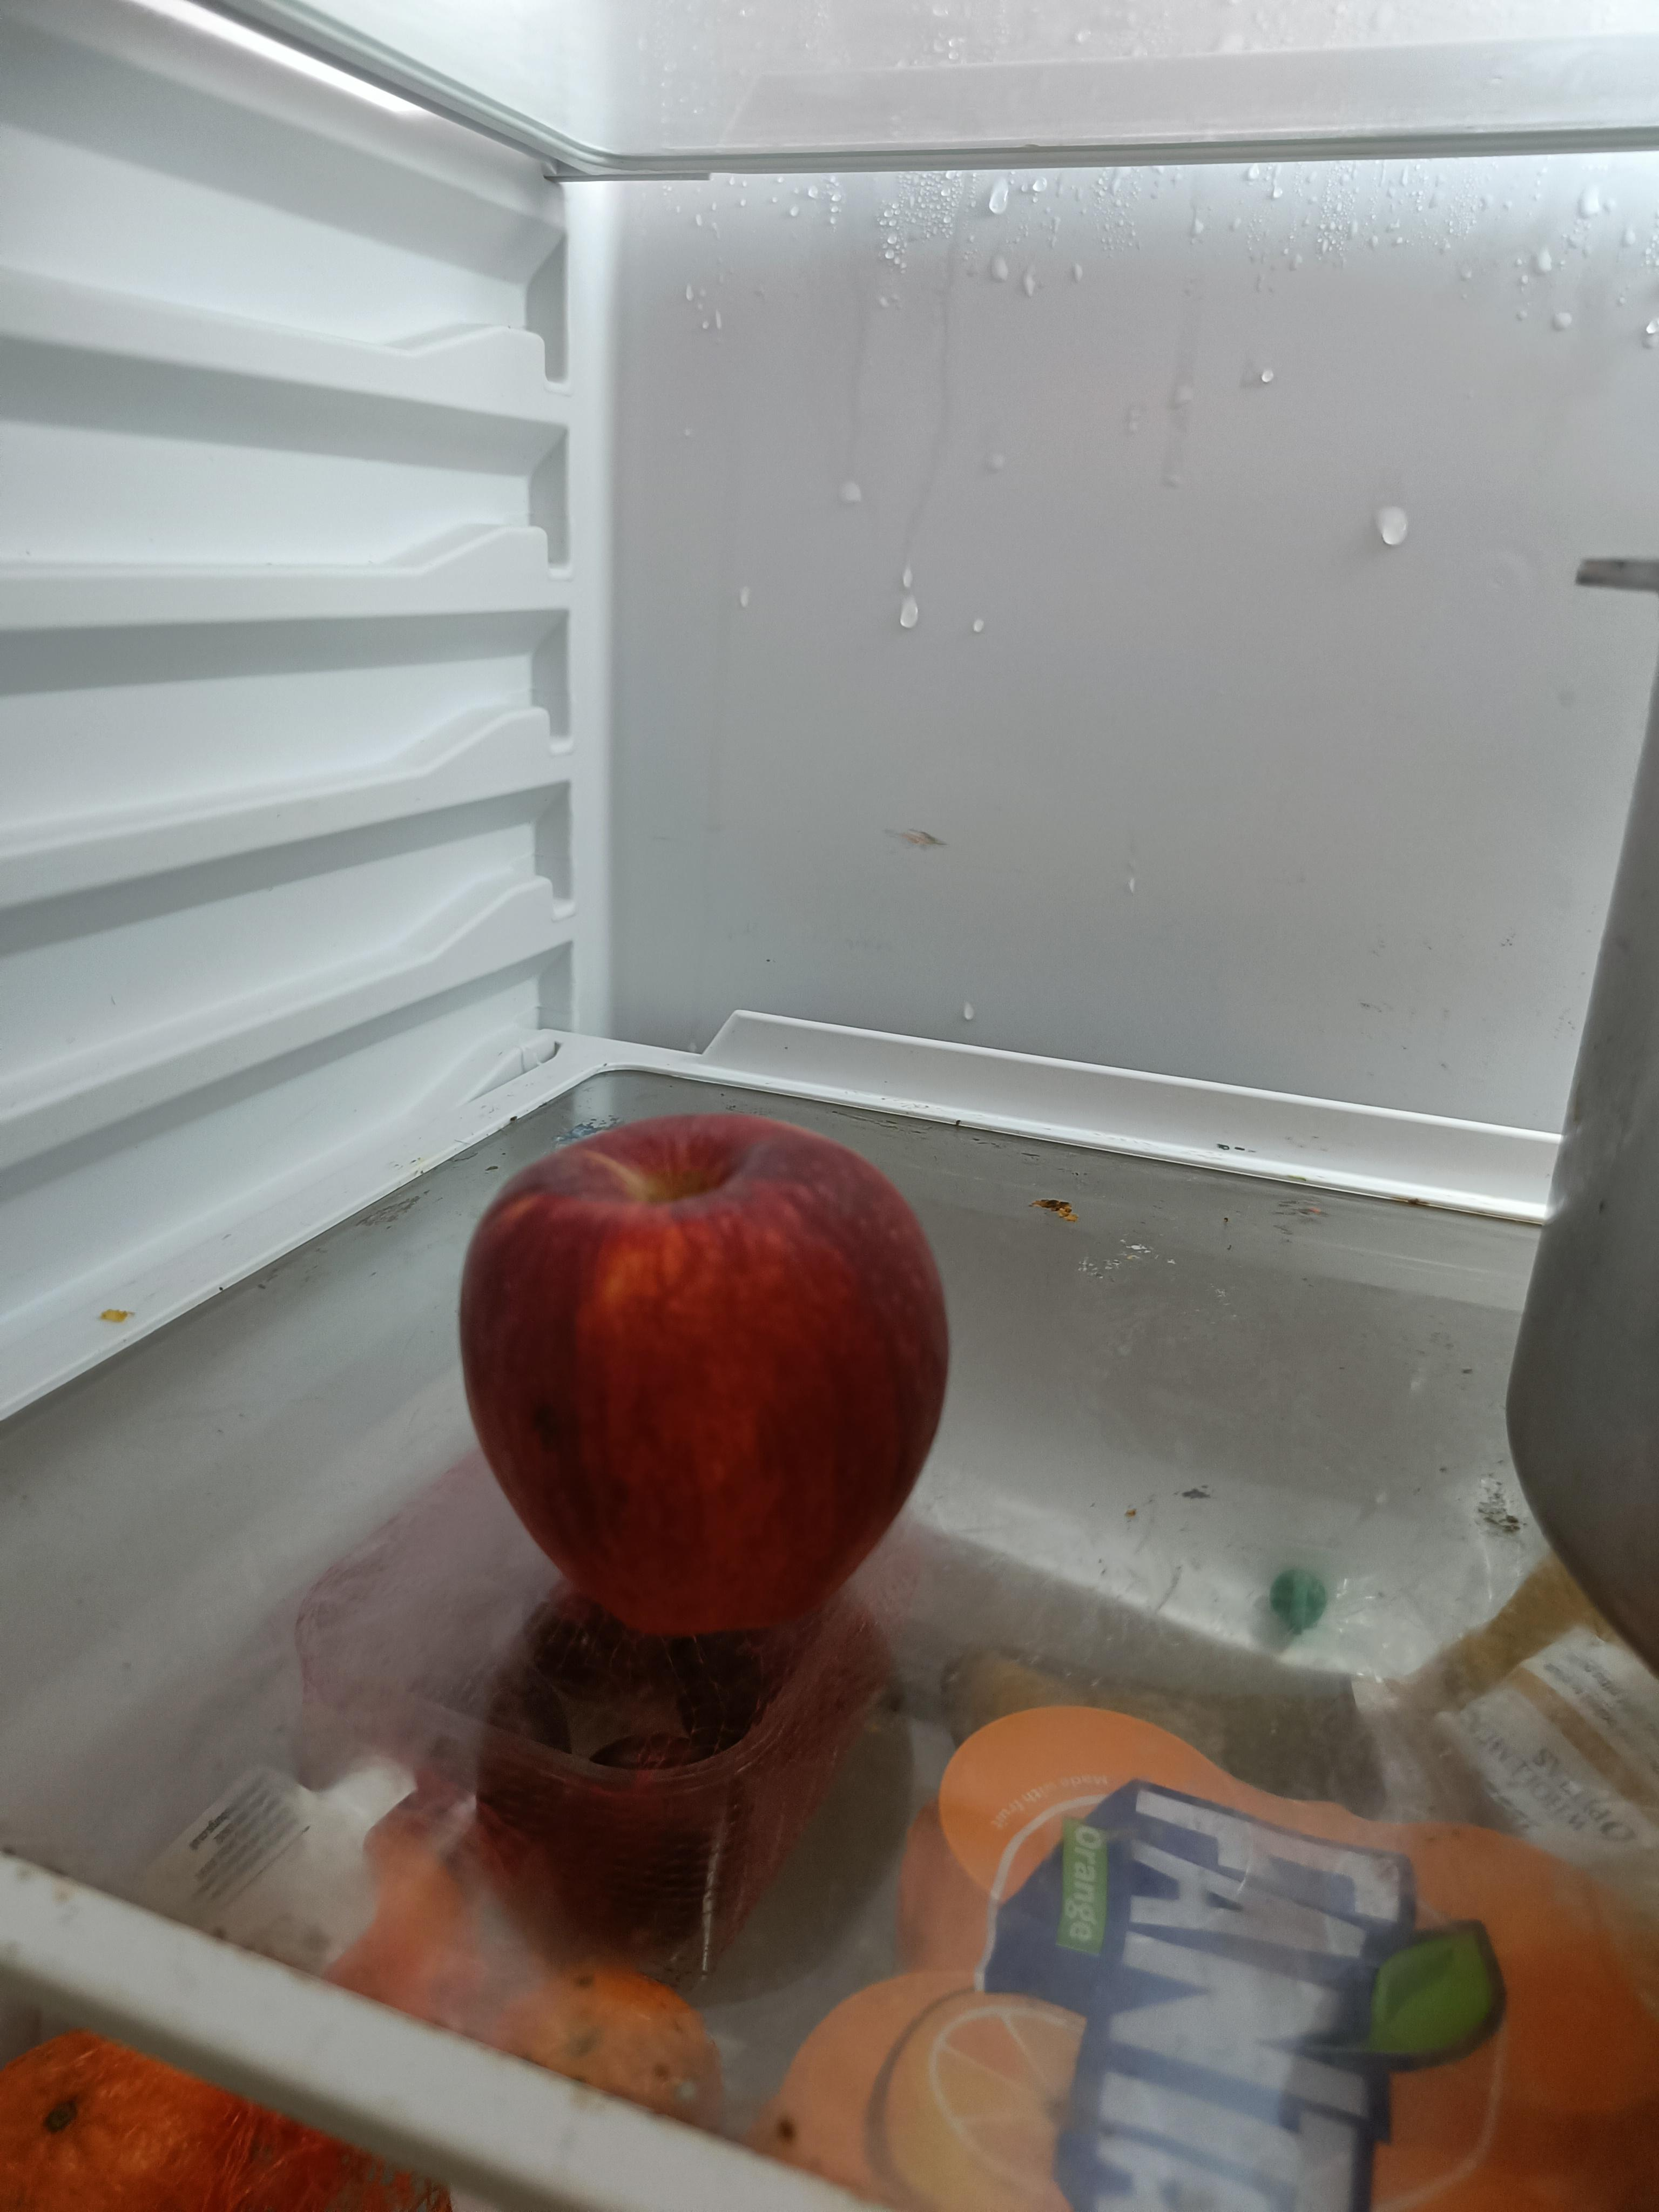Apple: (476, 1103, 971, 1655)
